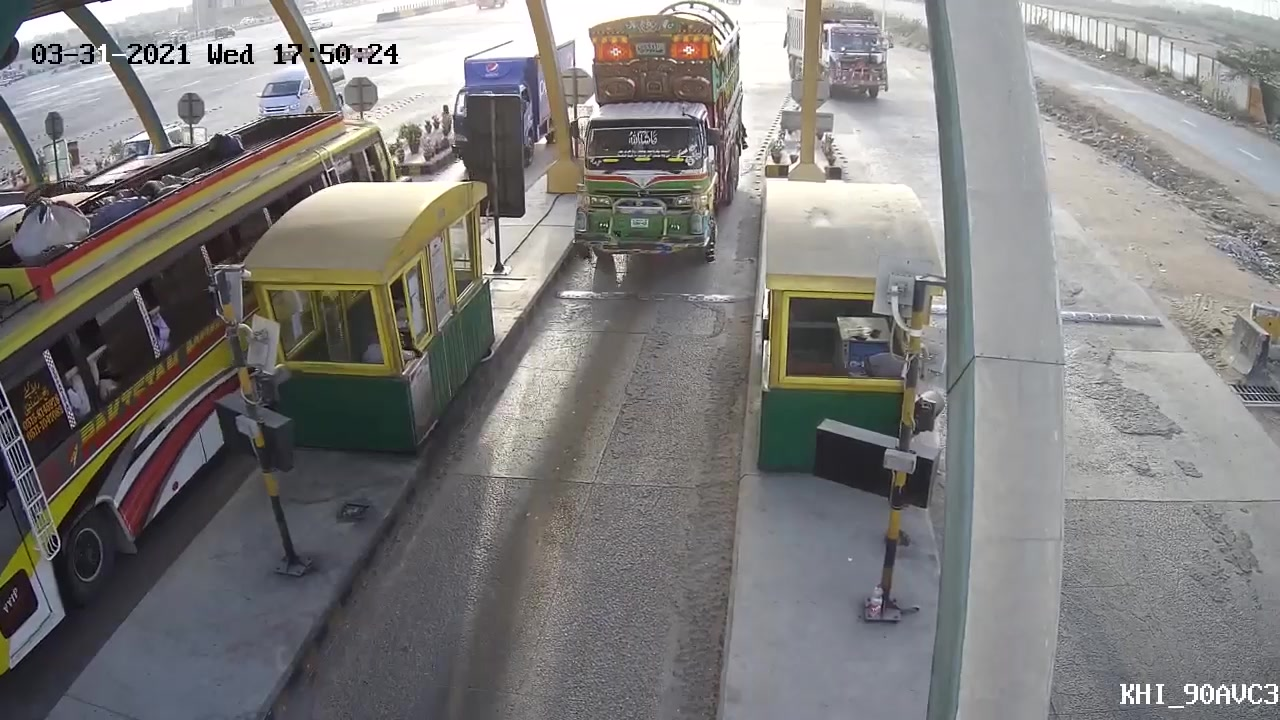F5: (568, 1, 744, 274)
